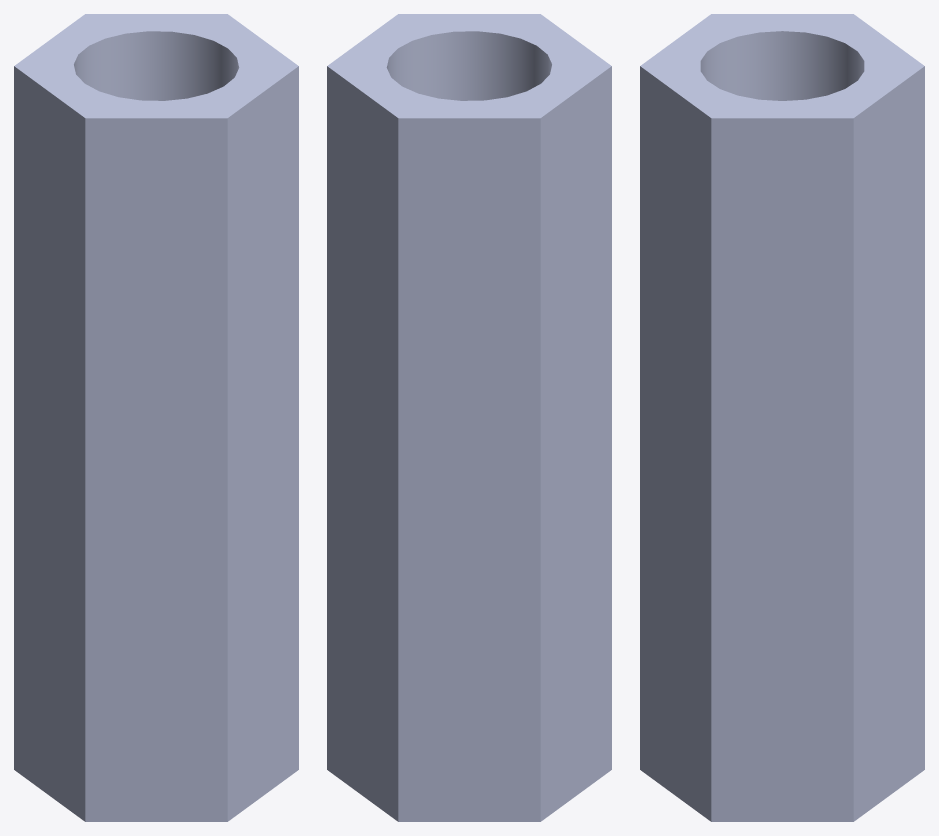
Rendered from spacer_m3.FBX.
The picture shows the model from 3 angles, left to right: view 1: azimuth 30°, elevation 25°; view 2: azimuth 150°, elevation 25°; view 3: azimuth 270°, elevation 25°; orthographic projection.
Visible parts, largest first — view 1: stitch_result_stitch all; view 2: stitch_result_stitch all; view 3: stitch_result_stitch all.
Part boxes in pixels (left/top/right/bottom): stitch_result_stitch all: left=14, top=14, right=298, bottom=821; stitch_result_stitch all: left=327, top=14, right=611, bottom=821; stitch_result_stitch all: left=640, top=14, right=924, bottom=821.
Size of the model in its own units: 0.1875 by 0.5906 by 0.2165.
